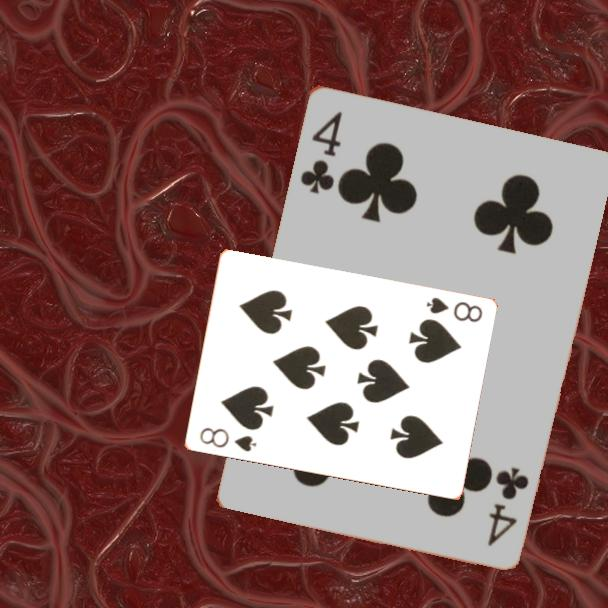c04: (296, 107, 345, 197), (483, 463, 532, 548)
s08: (422, 294, 485, 326), (196, 424, 259, 455)
